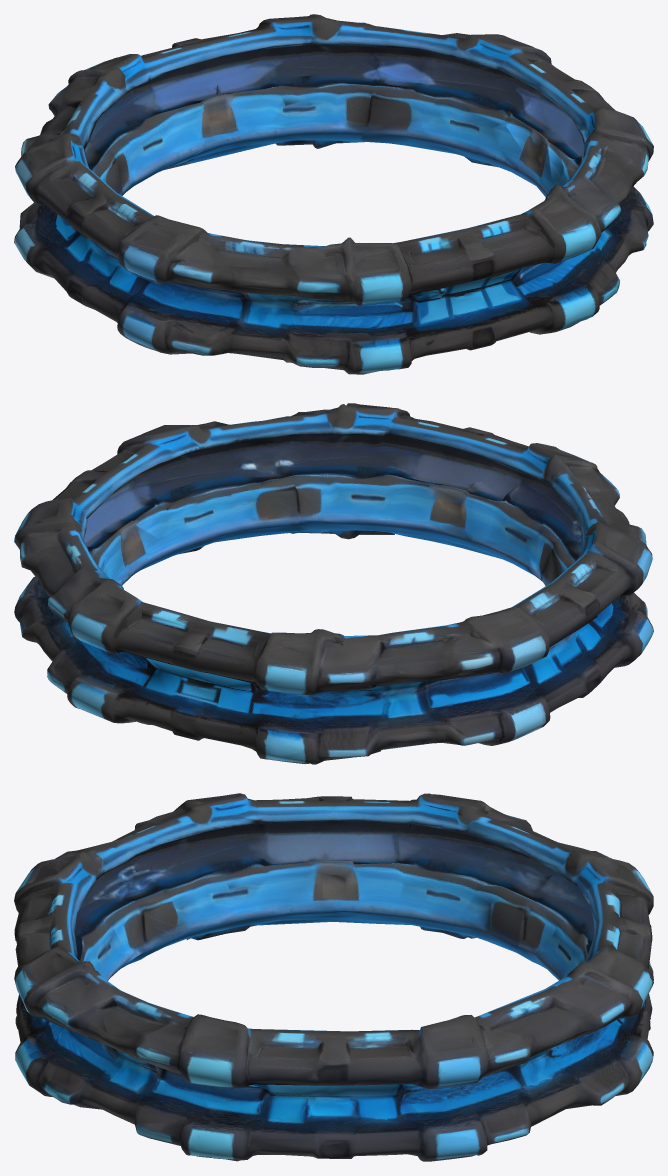
File: part_ring.glb
3 views of the same model, one above another, from view 1: azimuth 30°, elevation 25°; view 2: azimuth 150°, elevation 25°; view 3: azimuth 270°, elevation 25° (orthographic). The views are drawn at different scales.
Size of the model in its own units: 2 by 0.4827 by 2.
Materials: 1 (1 with a texture image).
